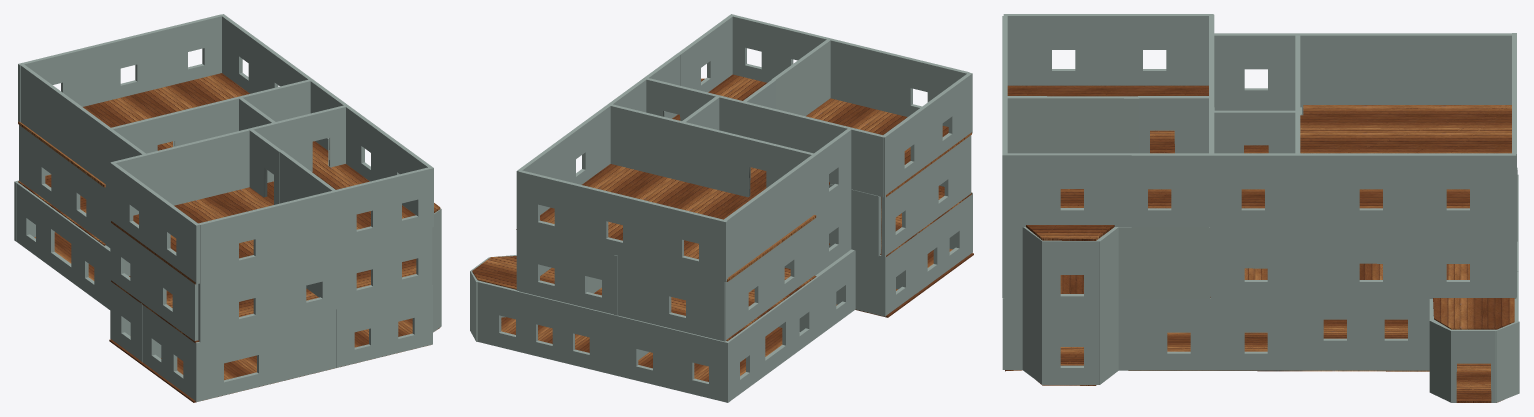
Rendered from terreo.fbx.
The picture shows the model from 3 angles, left to right: view 1: azimuth 30°, elevation 25°; view 2: azimuth 150°, elevation 25°; view 3: azimuth 270°, elevation 25°; orthographic projection. The views are drawn at different scales.
Parts seen in each view (by area): view 1: porta.020, Plane.004, Janela.013, Janela.045, Janela.040, porta.021, Janela.042, Janela.033, Janela.050, Janela.032, Janela.051, Janela.035 (+29 smaller); view 2: porta.021, Plane.004, porta.020, Janela.045, Janela.027, Janela.052, Janela.050, Janela.040, Janela.042, Janela.005, Janela.051, Janela.004 (+33 smaller); view 3: Janela.045, Plane.004, Janela.038, Janela.048, Janela.022, inteira.025, Janela.049, Janela.023, Janela.043, Janela.017, Janela.044, inteira.020 (+23 smaller).
Part boxes in pixels (x1=…): porta.020: x1=111, y1=105, x2=346, y2=215; Plane.004: x1=18, y1=73, x2=440, y2=284; Janela.013: x1=196, y1=309, x2=336, y2=401; Janela.045: x1=20, y1=64, x2=145, y2=189; Janela.040: x1=291, y1=177, x2=390, y2=260; porta.021: x1=109, y1=79, x2=310, y2=153; Janela.042: x1=198, y1=201, x2=294, y2=283; Janela.033: x1=198, y1=261, x2=294, y2=342; Janela.050: x1=92, y1=28, x2=167, y2=103; Janela.032: x1=143, y1=247, x2=198, y2=341; Janela.051: x1=166, y1=14, x2=221, y2=85; Janela.035: x1=340, y1=237, x2=390, y2=307; porta.021: x1=610, y1=104, x2=815, y2=197; Plane.004: x1=516, y1=74, x2=971, y2=281; porta.020: x1=645, y1=77, x2=885, y2=197; Janela.045: x1=724, y1=129, x2=851, y2=277; Janela.027: x1=618, y1=256, x2=725, y2=341; Janela.052: x1=650, y1=202, x2=727, y2=281; Janela.050: x1=574, y1=184, x2=651, y2=263; Janela.040: x1=773, y1=25, x2=874, y2=108; Janela.042: x1=872, y1=49, x2=969, y2=126; Janela.005: x1=672, y1=329, x2=730, y2=402; Janela.051: x1=519, y1=170, x2=576, y2=244; Janela.004: x1=615, y1=315, x2=671, y2=389; Janela.045: x1=1214, y1=33, x2=1511, y2=107; Plane.004: x1=1007, y1=85, x2=1511, y2=240; Janela.038: x1=1002, y1=153, x2=1131, y2=227; Janela.048: x1=1296, y1=153, x2=1411, y2=227; Janela.022: x1=1296, y1=227, x2=1410, y2=298; inteira.025: x1=1003, y1=96, x2=1139, y2=153; Janela.049: x1=1410, y1=153, x2=1516, y2=227; Janela.023: x1=1410, y1=227, x2=1516, y2=298; Janela.043: x1=1003, y1=14, x2=1108, y2=85; Janela.017: x1=1118, y1=298, x2=1218, y2=370; Janela.044: x1=1109, y1=14, x2=1213, y2=85; inteira.020: x1=1116, y1=227, x2=1209, y2=299.
Bounding box in the file's own units: 3554 × 2051 × 4443.
Materials: 2 (1 with a texture image).
